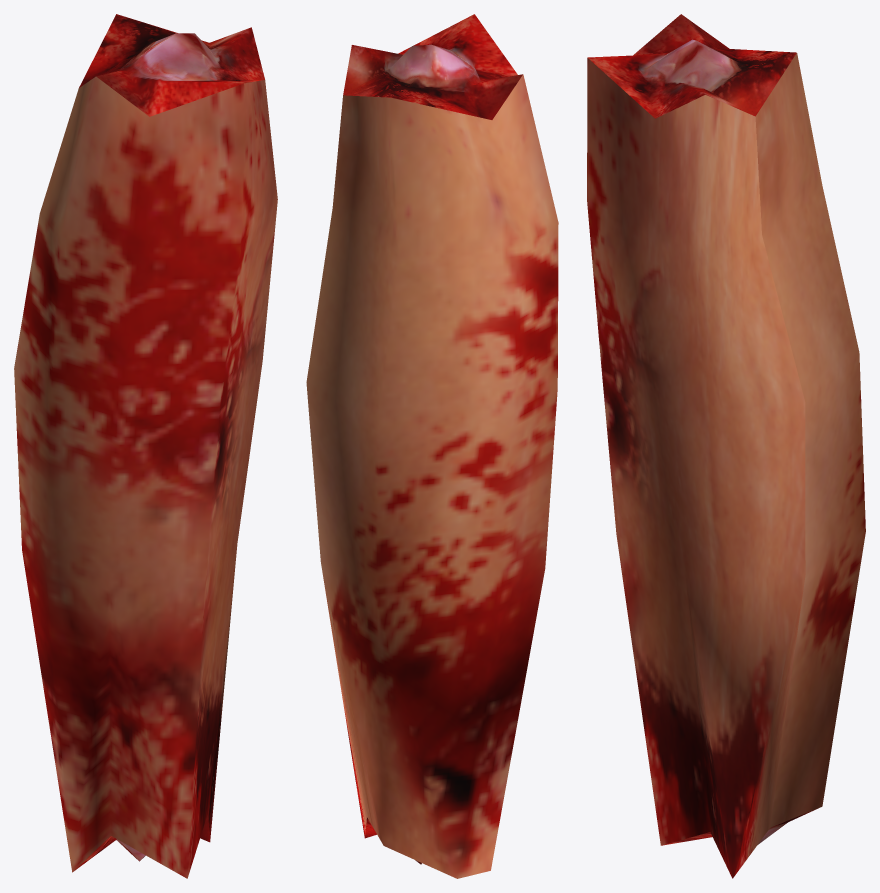
Rendered from female_rt_lowleg.fbx.
3 renders of one model, left to right at view 1: azimuth 30°, elevation 25°; view 2: azimuth 150°, elevation 25°; view 3: azimuth 270°, elevation 25°, orthographic. The views are drawn at different scales.
Visible parts, largest first — view 1: fm_rt_lowleg_gib; view 2: fm_rt_lowleg_gib; view 3: fm_rt_lowleg_gib.
Boxes of the visible parts, x1,y1,x2,y2 form: fm_rt_lowleg_gib: (14, 14, 277, 878); fm_rt_lowleg_gib: (306, 14, 558, 878); fm_rt_lowleg_gib: (587, 14, 865, 878).
Size of the model in its own units: 0.1252 by 0.4586 by 0.1412.
